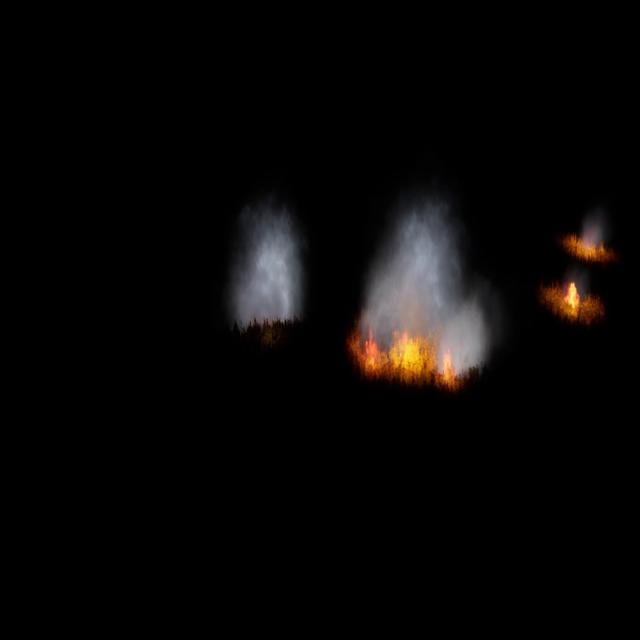fire: (351, 330, 458, 390), (566, 277, 580, 315)
smoke: (359, 182, 502, 382), (226, 184, 304, 332), (579, 217, 604, 256)
